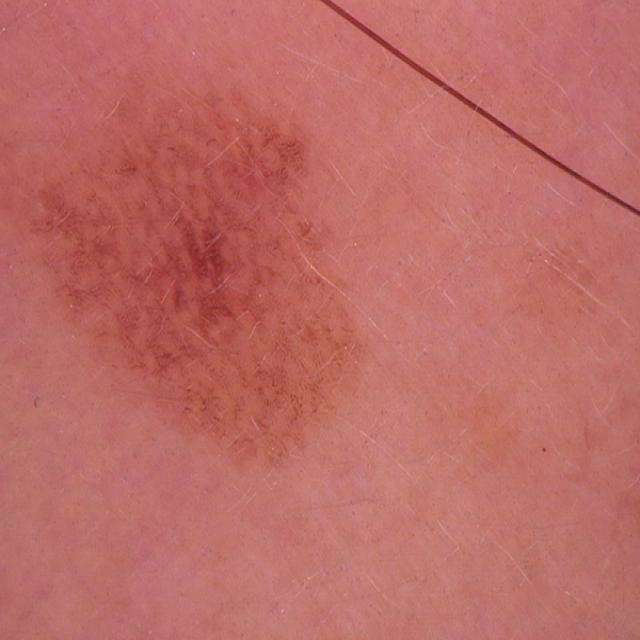Skin-Cancer Pigmented benign keratosis: (18, 38, 540, 590)
